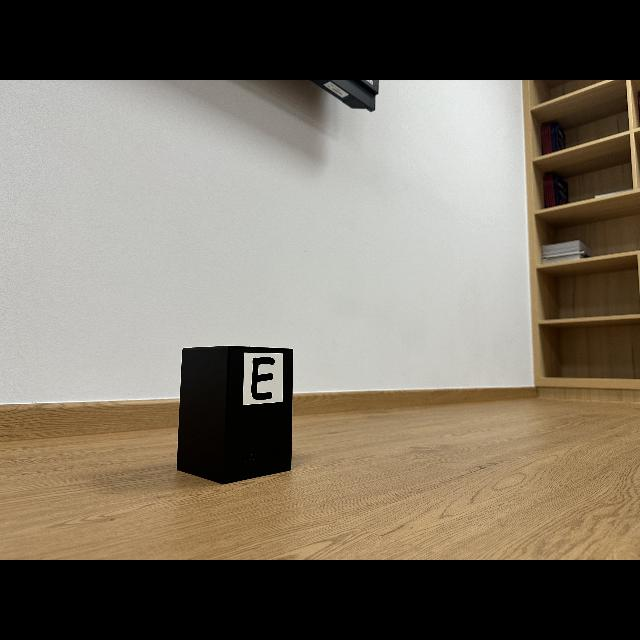E: (251, 358, 275, 400)
